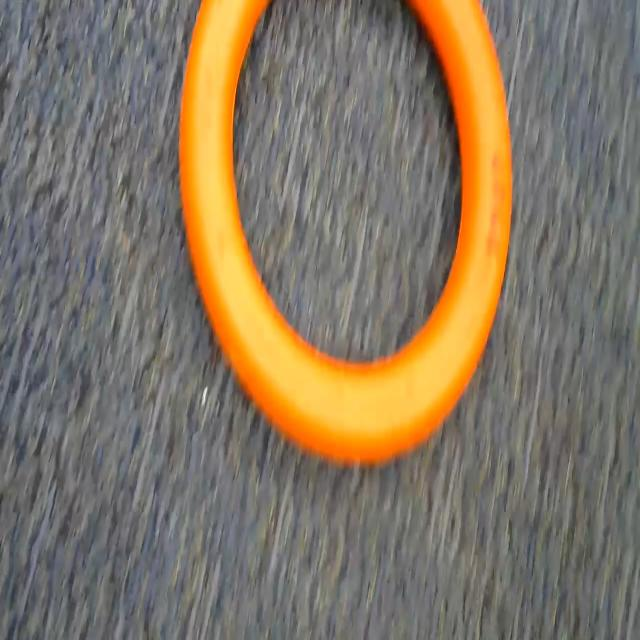note: (170, 0, 536, 483)
